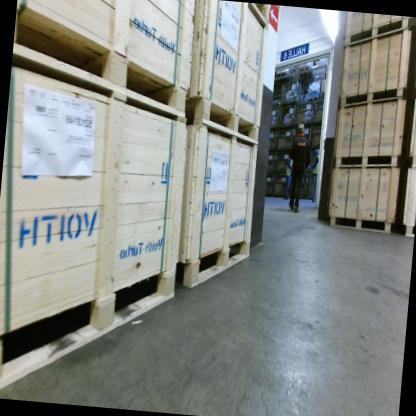pallet: (298, 63, 316, 83), (272, 71, 291, 88), (306, 94, 320, 105), (318, 94, 327, 101)
stillage: (278, 100, 297, 132), (280, 79, 302, 106), (288, 173, 310, 200), (275, 126, 294, 156), (274, 150, 294, 178), (295, 101, 313, 131), (272, 172, 291, 199), (309, 121, 325, 150), (293, 127, 310, 153), (312, 96, 326, 126), (306, 173, 320, 200), (307, 149, 322, 174), (269, 104, 281, 132), (264, 173, 276, 199), (268, 126, 279, 154), (266, 151, 276, 176)
